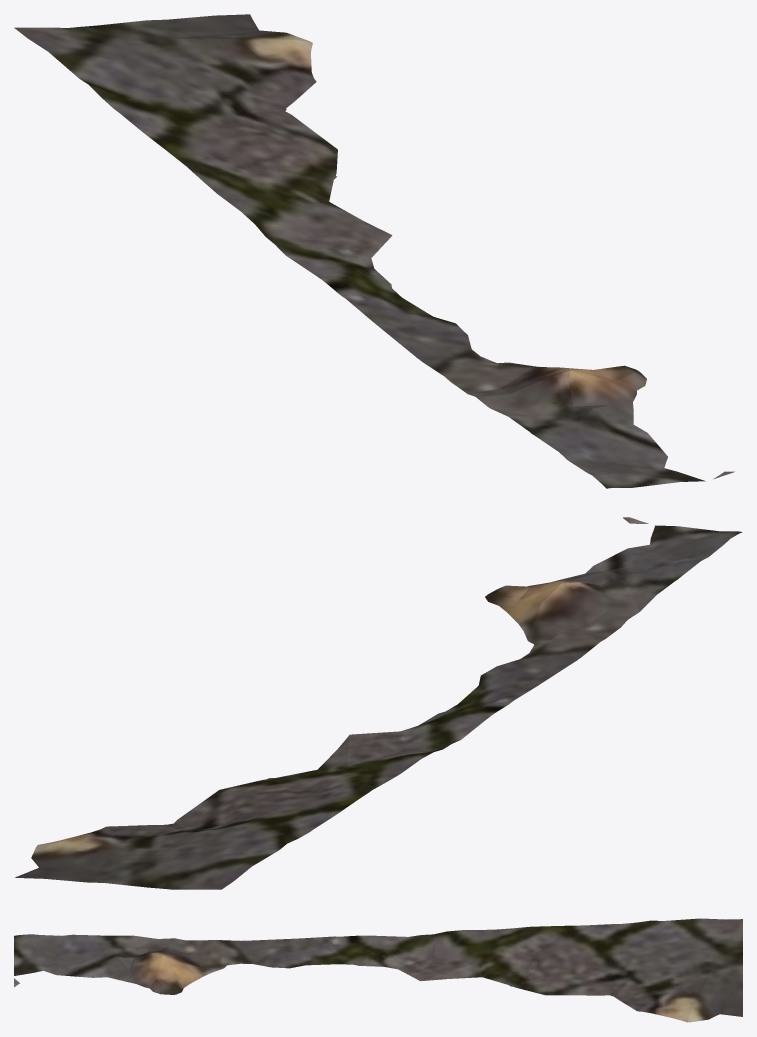
3 renders of one model, top to bottom at view 1: azimuth 30°, elevation 25°; view 2: azimuth 150°, elevation 25°; view 3: azimuth 270°, elevation 25°, orthographic. The views are drawn at different scales.
Size of the model in its own units: 0.2073 by 0.0352 by 0.8374.
1 material, 1 textured.
